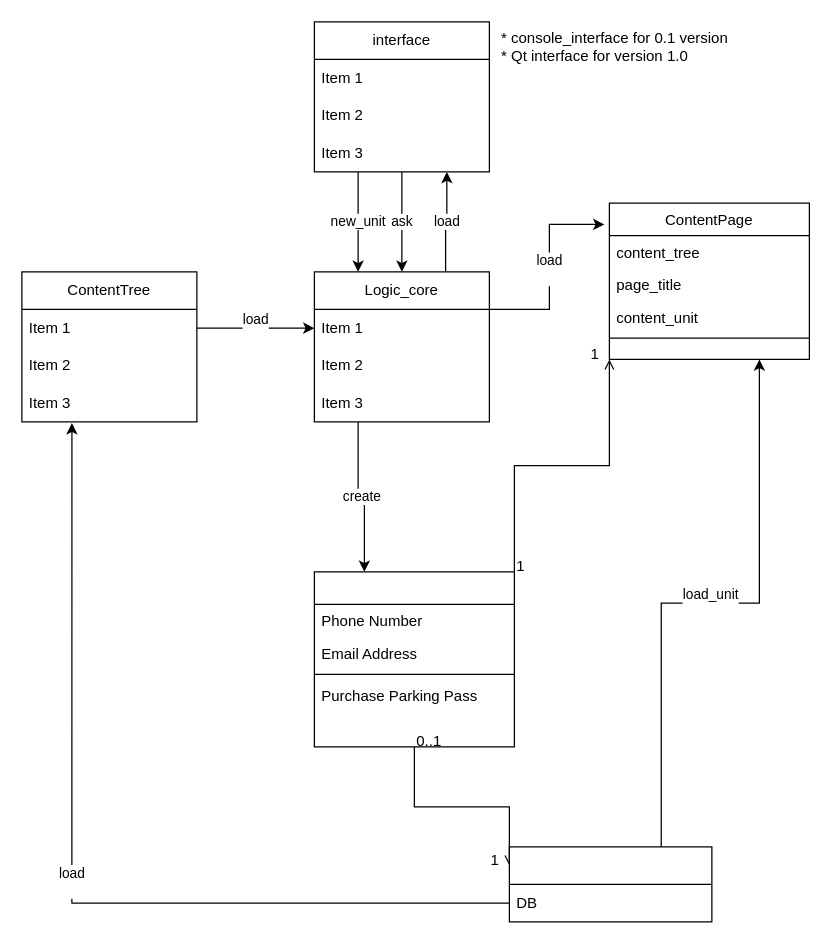
Some shapes in this 831 by 944 pixel diagram are drawn without their labels. The box of each missing label's shape, as (x1, y1, x2, y2) in pixels:
ContentUnit: (313, 571, 514, 747)
DatabaseHandler: (508, 846, 712, 922)
